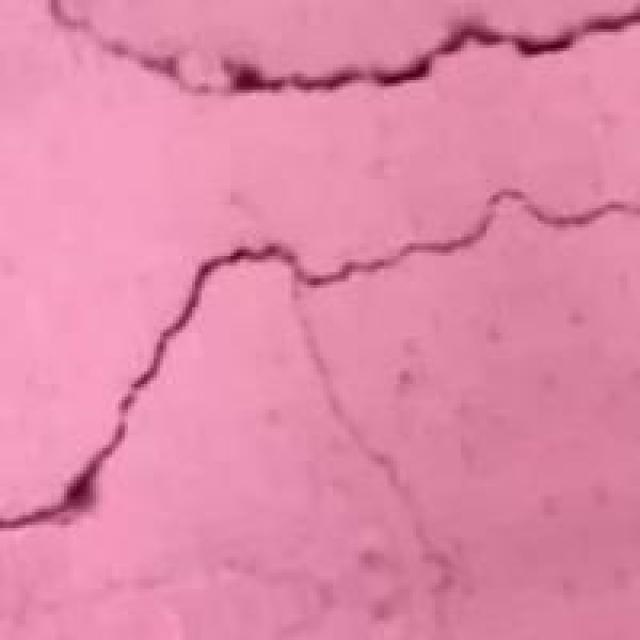crack: (0, 10, 634, 531)
